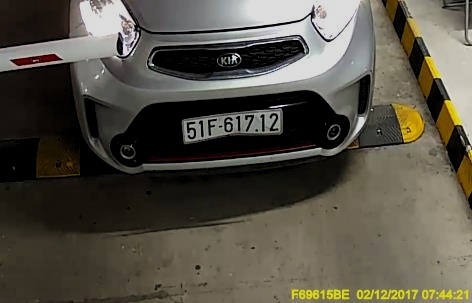plate: (175, 106, 281, 142)
